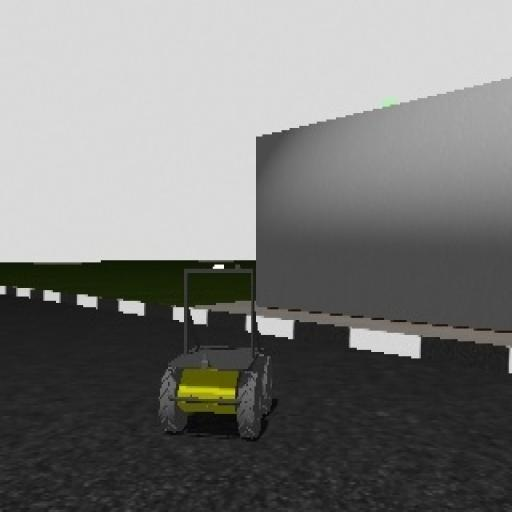huskya200: (155, 255, 281, 448)
